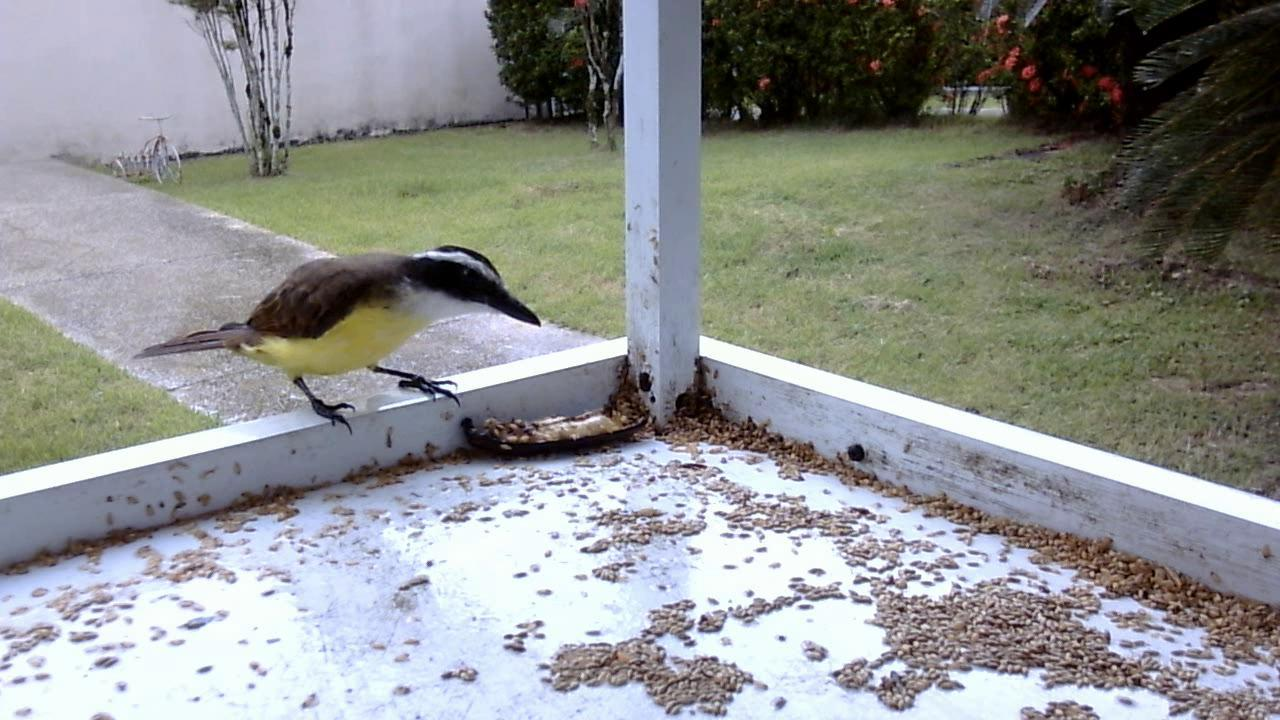bem_te_vi: (127, 231, 556, 449)
